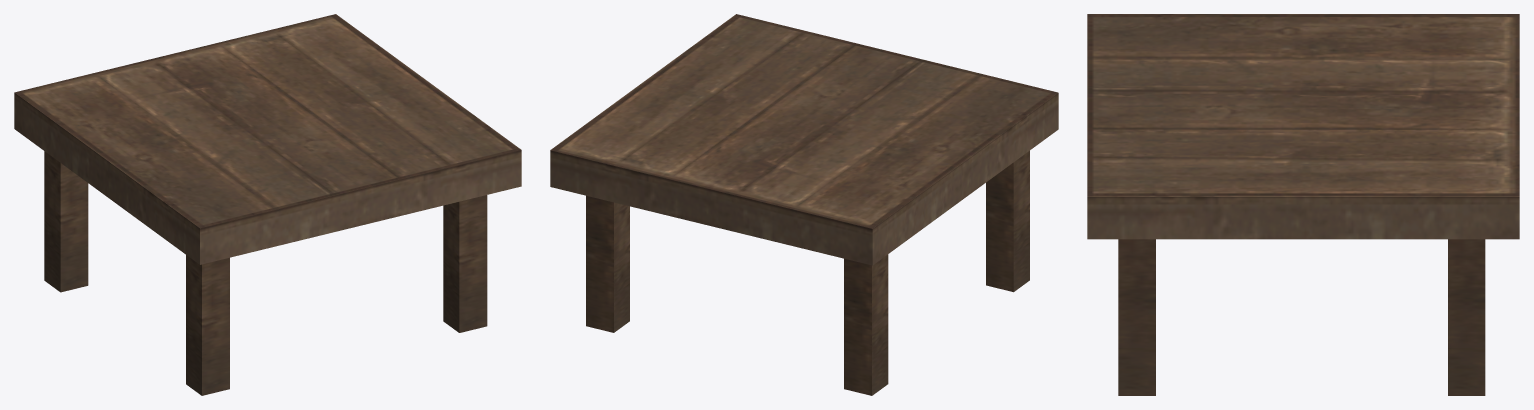
File: a_wujian_zhuozi.fbx
3 renders of one model, left to right at view 1: azimuth 30°, elevation 25°; view 2: azimuth 150°, elevation 25°; view 3: azimuth 270°, elevation 25°, orthographic. The views are drawn at different scales.
Parts seen in each view (by area): view 1: a_wujian_zhuozi; view 2: a_wujian_zhuozi; view 3: a_wujian_zhuozi.
Boxes of the visible parts, x1,y1,x2,y2 form: a_wujian_zhuozi: [14, 14, 521, 395]; a_wujian_zhuozi: [550, 14, 1058, 395]; a_wujian_zhuozi: [1087, 14, 1519, 395].
Bounding box in the file's own units: 2.16 × 1.16 × 2.16.
